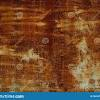rust: (1, 2, 99, 90)
